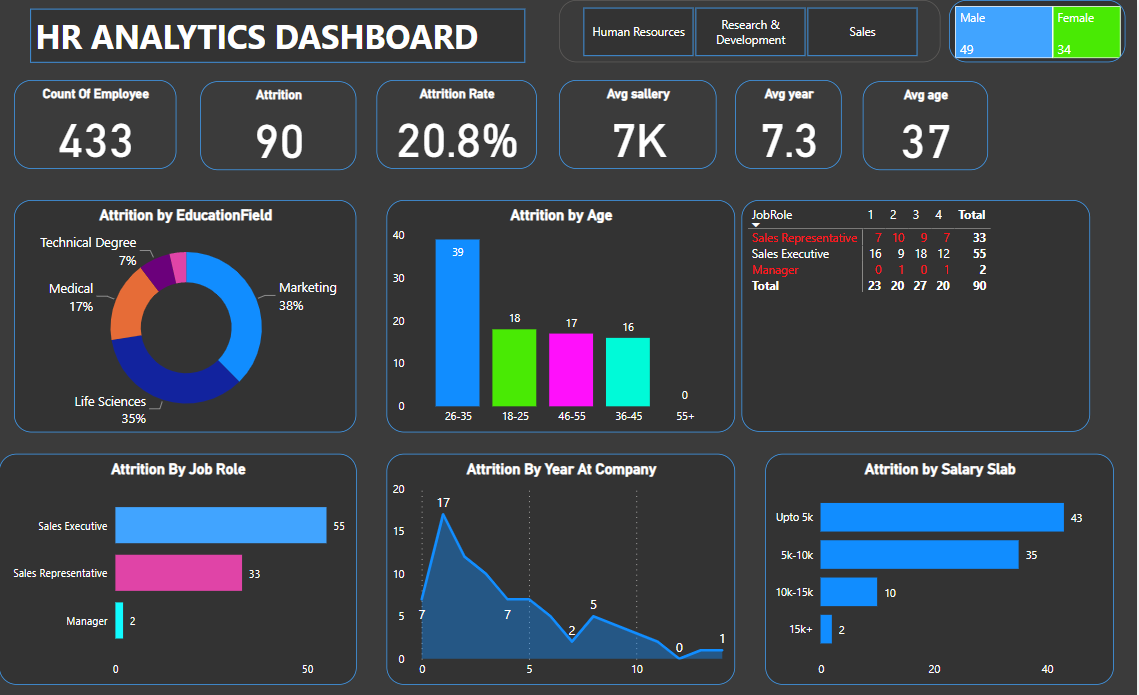

The dashboard page shown, as its layout file describes it:
{"tool":"powerbi","page":{"name":"Dashboard","canvas":[1300,800],"ordinal":0},"visuals":[{"type":"card","title":"Count Of Employee","fields":{"Values":["CountNonNull(HR_Analytics.EmpID)"]},"box":[17.1,91.4,185.7,101.4],"z":0},{"type":"card","title":"Attrition","fields":{"Values":["Sum(HR_Analytics.new attertion)"]},"box":[230,92.9,178.6,101.4],"z":1000},{"type":"card","title":"Avg age","fields":{"Values":["Avg(HR_Analytics.Age)"]},"box":[987.1,92.9,142.9,101.4],"z":2000},{"type":"card","title":"Attrition Rate","fields":{"Values":["HR_Analytics.AttritionRate"]},"box":[431.4,91.4,182.9,101.4],"z":3000},{"type":"card","title":"Avg sallery","fields":{"Values":["Avg(HR_Analytics.MonthlyIncome)"]},"box":[640,91.4,180,101.4],"z":4000},{"type":"card","title":"Avg year","fields":{"Values":["Avg(HR_Analytics.YearsAtCompany)"]},"box":[841.4,91.4,121.4,101.4],"z":5000},{"type":"donutChart","title":"Attrition by EducationField","fields":{"Y":["Sum(HR_Analytics.Education)"],"Category":["HR_Analytics.EducationField"]},"box":[17.1,228.6,391.4,265.7],"z":6000},{"type":"columnChart","title":"Attrition by Age","fields":{"Category":["HR_Analytics.AgeGroup"],"Y":["Sum(HR_Analytics.new attertion)"]},"box":[442.9,228.6,398.6,265.7],"z":7000},{"type":"pivotTable","fields":{"Columns":["HR_Analytics.JobSatisfaction"],"Rows":["HR_Analytics.JobRole"],"Values":["Sum(HR_Analytics.new attertion)"]},"box":[849,228,398,265],"z":8000},{"type":"barChart","title":"Attrition By Job Role","fields":{"Category":["HR_Analytics.JobRole"],"Y":["Sum(HR_Analytics.new attertion)"]},"box":[0,518.6,408.6,264.3],"z":9000},{"type":"areaChart","title":"Attrition By Year At Company","fields":{"Category":["HR_Analytics.YearsAtCompany"],"Y":["Sum(HR_Analytics.new attertion)"]},"box":[442.9,518.6,398.6,264.3],"z":10000},{"type":"treemap","title":"Attrition by Age","fields":{"Group":["HR_Analytics.Gender"],"Values":["Sum(HR_Analytics.new attertion)"]},"box":[1085.7,0,201.4,71.4],"z":11000},{"type":"slicer","title":"Attrition by Age","fields":{"Values":["HR_Analytics.Department"]},"box":[640,0,435.7,71.4],"z":12000},{"type":"textbox","box":[35.7,10,565.7,61.4],"z":13000},{"type":"barChart","title":"Attrition by Salary Slab","fields":{"Y":["Sum(HR_Analytics.new attertion)"],"Category":["HR_Analytics.SalarySlab"]},"box":[875.7,518.6,398.6,264.3],"z":14000}]}

Visuals, with their boxes in screenshot pixels (x1, y1, x2, y2), scaled from the page's 1300x800 canvas onto the 1139x695 screenshot:
"Count Of Employee" card: [15,79,178,167]
"Attrition" card: [202,81,358,169]
"Avg age" card: [865,81,990,169]
"Attrition Rate" card: [378,79,538,167]
"Avg sallery" card: [561,79,718,167]
"Avg year" card: [737,79,844,167]
"Attrition by EducationField" donutChart: [15,199,358,429]
"Attrition by Age" columnChart: [388,199,737,429]
pivotTable - HR_Analytics.JobSatisfaction x HR_Analytics.JobRole: [744,198,1093,428]
"Attrition By Job Role" barChart: [0,451,358,680]
"Attrition By Year At Company" areaChart: [388,451,737,680]
"Attrition by Age" treemap: [951,0,1128,62]
"Attrition by Age" slicer: [561,0,942,62]
textbox: [31,9,527,62]
"Attrition by Salary Slab" barChart: [767,451,1116,680]
